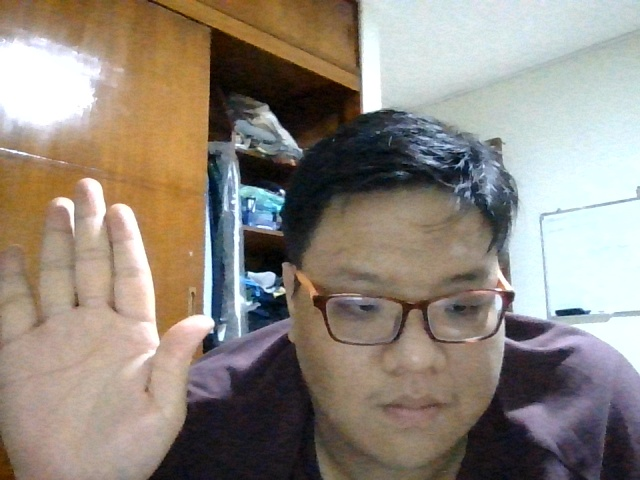hola: (2, 172, 214, 480)
